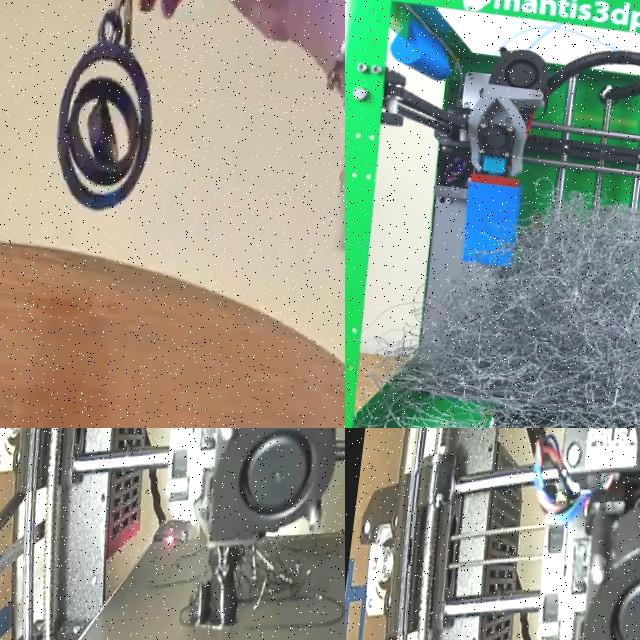spaghetti: (352, 195, 640, 428), (234, 536, 324, 619)
